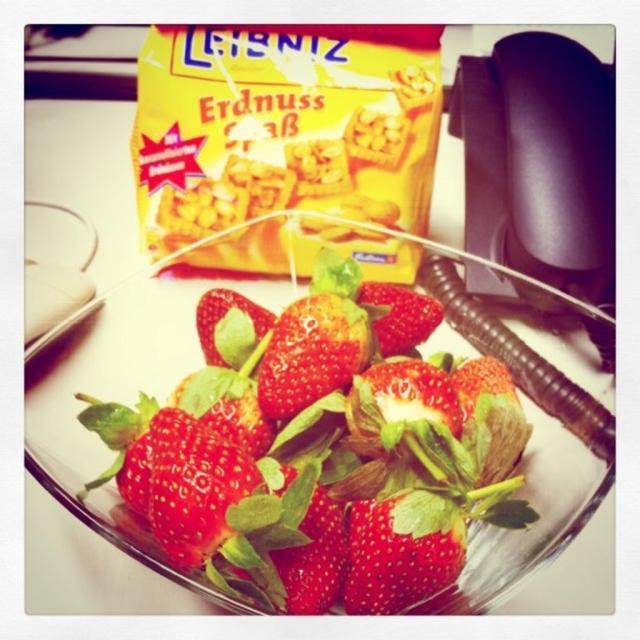Strawberry: (341, 451, 538, 619), (137, 408, 321, 586), (219, 458, 357, 623), (339, 355, 471, 496), (253, 288, 374, 434), (309, 244, 446, 354), (169, 330, 279, 462), (76, 386, 177, 515), (448, 354, 539, 494), (190, 285, 280, 377)
